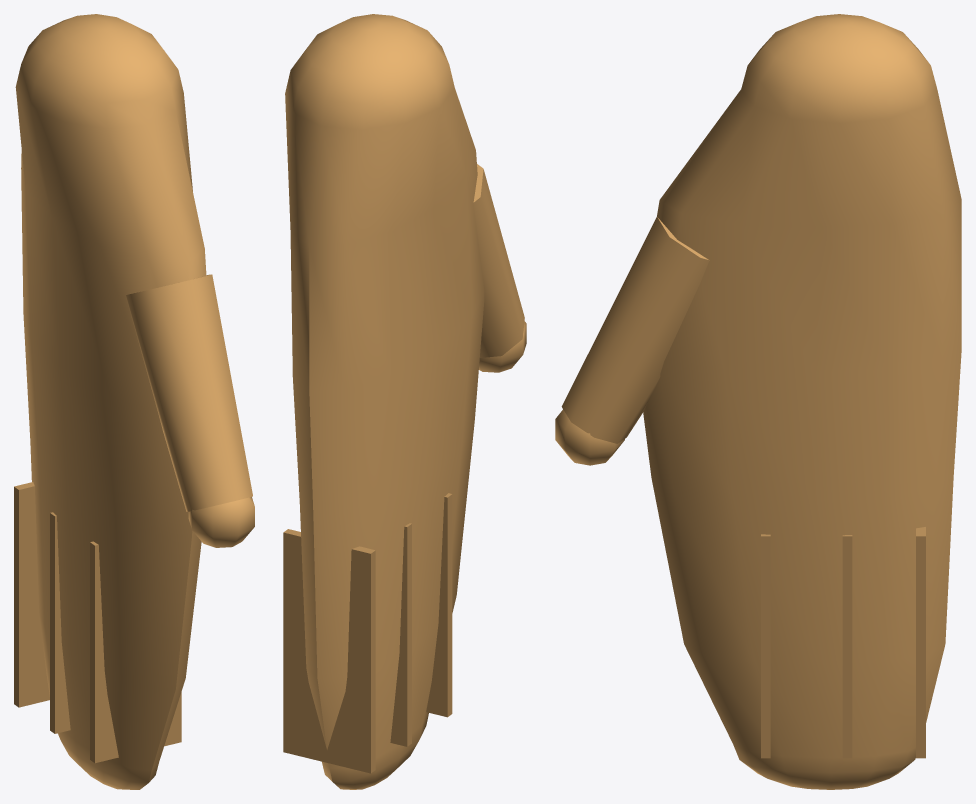
File: npc_hand_open.glb
3 views of the same model, side by side, from view 1: azimuth 30°, elevation 25°; view 2: azimuth 150°, elevation 25°; view 3: azimuth 270°, elevation 25° (orthographic). The views are drawn at different scales.
Visible parts, largest first — view 1: npc_hand_open; view 2: npc_hand_open; view 3: npc_hand_open.
Part boxes in pixels (bbox=[...]): npc_hand_open: bbox=[14, 14, 254, 789]; npc_hand_open: bbox=[283, 14, 526, 789]; npc_hand_open: bbox=[555, 14, 961, 789].
Size of the model in its own units: 0.04 by 0.2068 by 0.0996.
